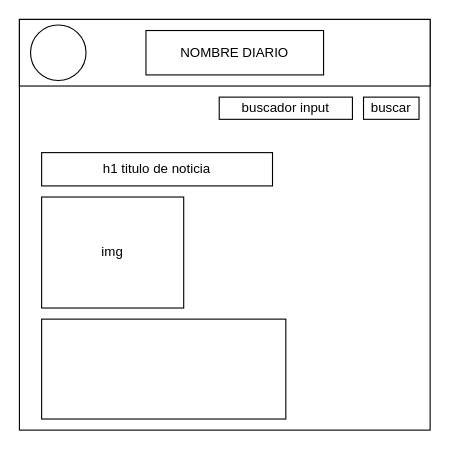
Image size: 450x450. Some labels were removed from this diagram. Each missing label, with the box of its shape:
logo: (29, 24, 86, 80)
p (noticia): (41, 318, 286, 419)
